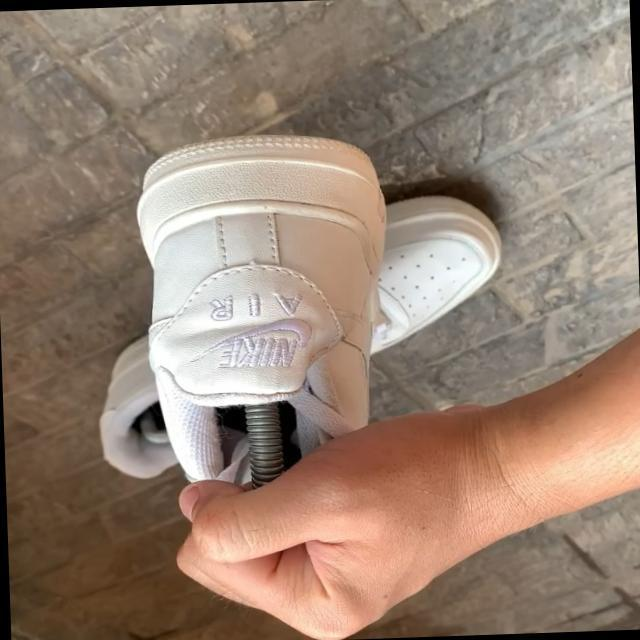nike fake air force: (134, 132, 401, 483)
